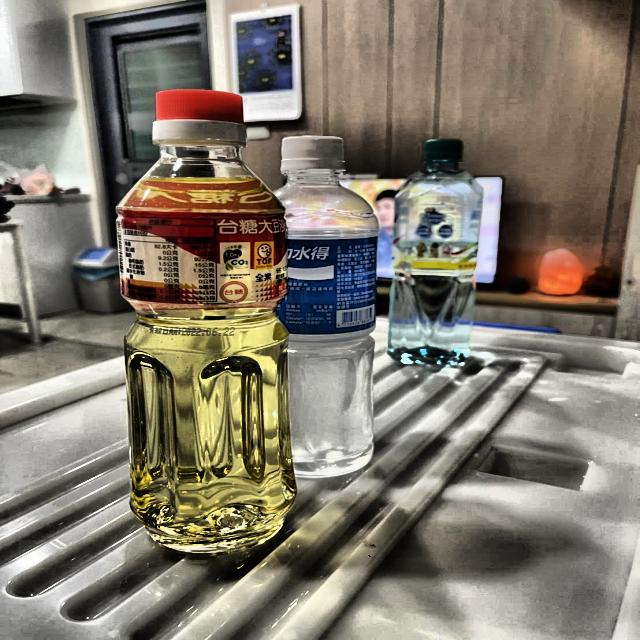Bottles: (96, 81, 299, 556), (267, 131, 387, 489), (376, 132, 496, 378)
